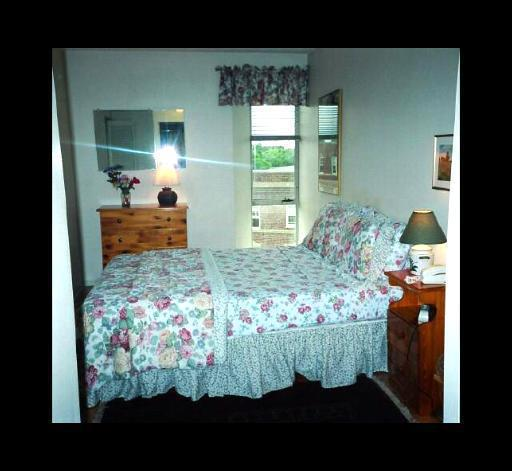Armario: (100, 212, 186, 245)
